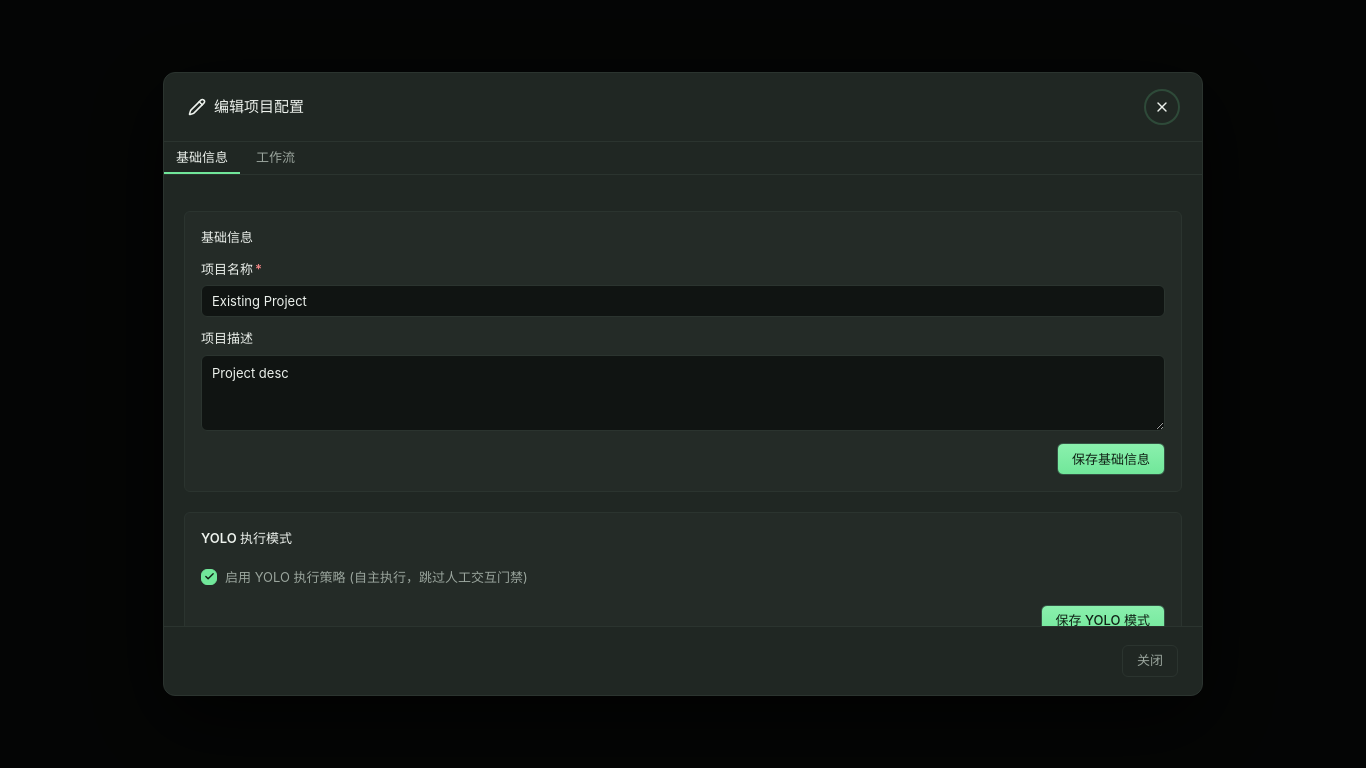
Scenario: EditProjectModal › saves basic info with the version frozen at open time
Click the button "保存基础信息": click(1111, 459) [1057, 443, 1165, 475]
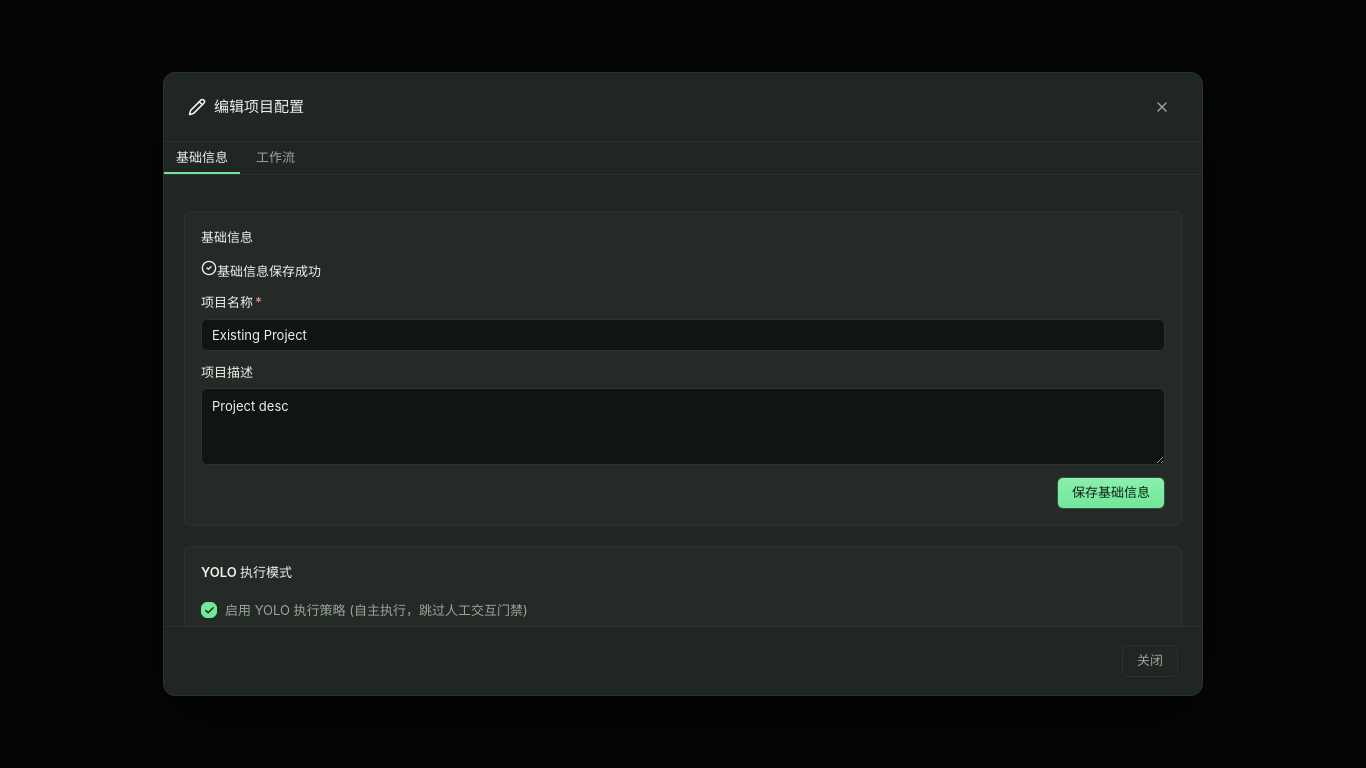
Expected: the text "基础信息保存成功" is shown, [217, 263, 321, 279]
